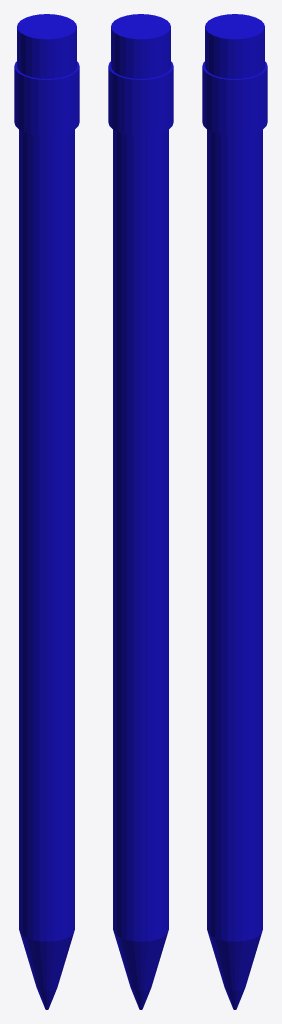
The model's file is pencil.FBX.
The picture shows the model from 3 angles, left to right: view 1: azimuth 30°, elevation 25°; view 2: azimuth 210°, elevation 25°; view 3: azimuth 330°, elevation 25°; orthographic projection.
Visible parts, largest first — view 1: Pencil001; view 2: Pencil001; view 3: Pencil001.
Boxes of the visible parts, x1=… form: Pencil001: x1=14, y1=14, x2=79, y2=1009; Pencil001: x1=108, y1=14, x2=173, y2=1009; Pencil001: x1=202, y1=14, x2=267, y2=1009.
Size of the model in its own units: 2.3 by 38.19 by 2.3.
